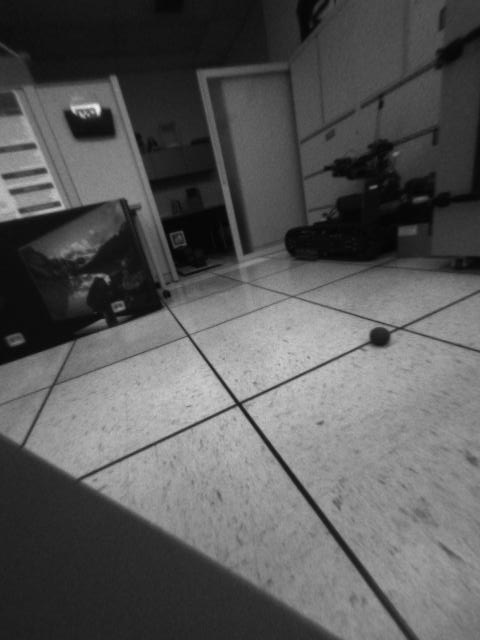dogtoy: (358, 319, 403, 354)
